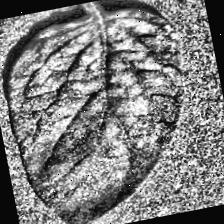spider mites: (0, 2, 210, 224)
